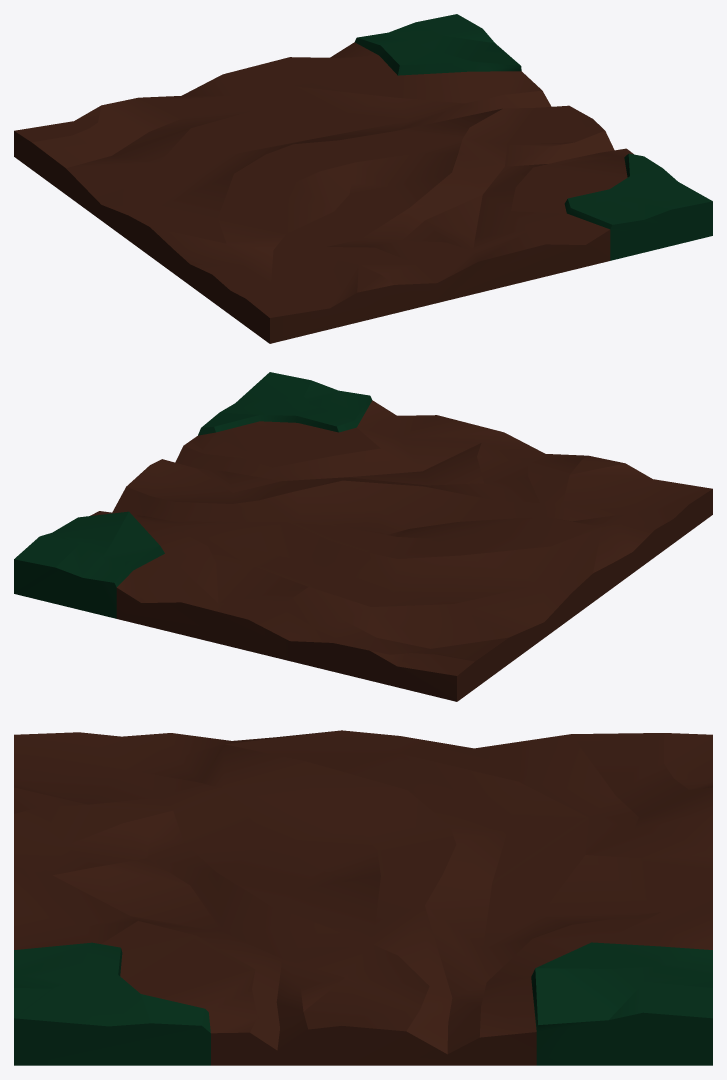
Rendered from Ground_Road_Entrance_R.fbx.
3 renders of one model, top to bottom at view 1: azimuth 30°, elevation 25°; view 2: azimuth 150°, elevation 25°; view 3: azimuth 270°, elevation 25°, orthographic. The views are drawn at different scales.
Parts seen in each view (by area): view 1: Ground_Road_Entrance_R; view 2: Ground_Road_Entrance_R; view 3: Ground_Road_Entrance_R.
Boxes of the visible parts, bbox=[...] form: Ground_Road_Entrance_R: bbox=[14, 14, 712, 343]; Ground_Road_Entrance_R: bbox=[14, 372, 712, 701]; Ground_Road_Entrance_R: bbox=[14, 730, 712, 1065].
Bounding box in the file's own units: 147 × 14.83 × 147.
